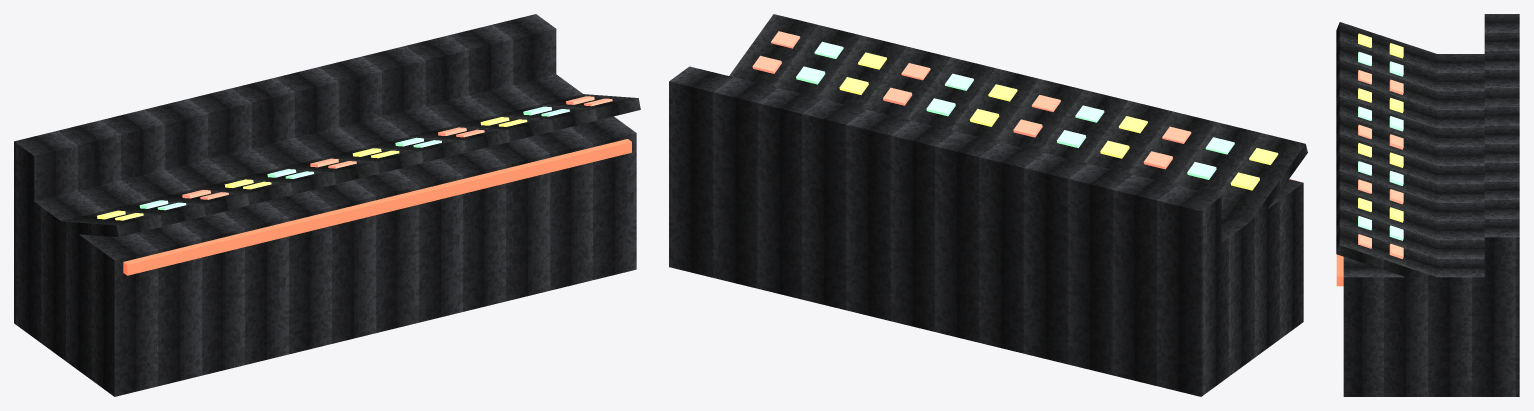
File: core_console.glb
3 views of the same model, side by side, from view 1: azimuth 30°, elevation 25°; view 2: azimuth 150°, elevation 25°; view 3: azimuth 270°, elevation 25° (orthographic). The views are drawn at different scales.
Parts seen in each view (by area): view 1: core_console; view 2: core_console; view 3: core_console.
Part boxes in pixels (box(x1,y1,x2,y2)): core_console: box(14, 14, 640, 396); core_console: box(669, 14, 1307, 396); core_console: box(1336, 14, 1519, 396).
Size of the model in its own units: 3 by 1 by 1.04.
Materials: 6 (2 with a texture image).
